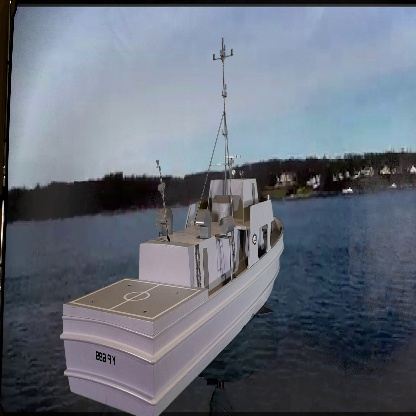YP689: (61, 38, 285, 415)
